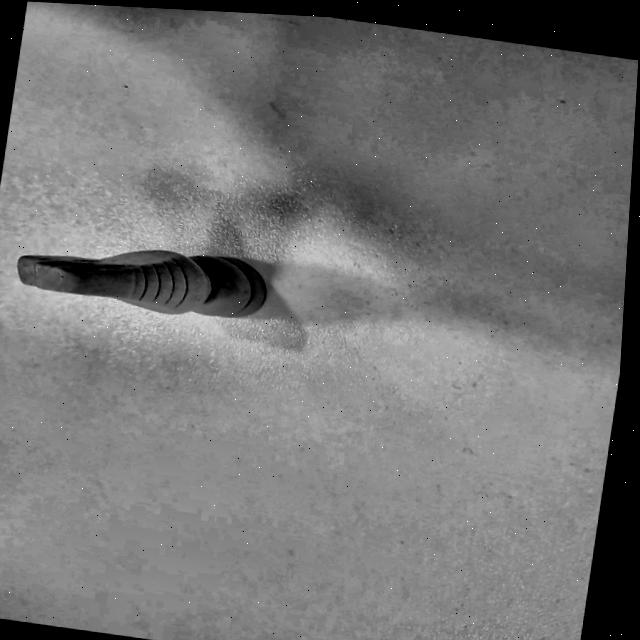white-knight: (0, 201, 298, 347)
